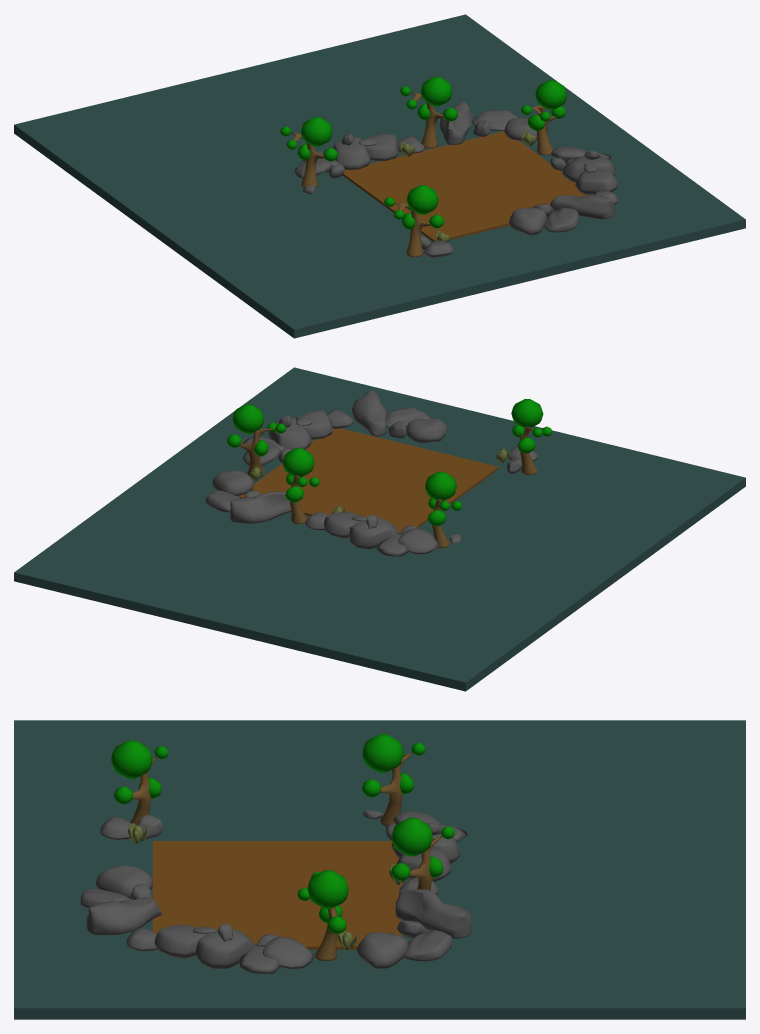
The model's file is PlayingField.fbx.
3 views of the same model, one above another, from view 1: azimuth 30°, elevation 25°; view 2: azimuth 150°, elevation 25°; view 3: azimuth 270°, elevation 25° (orthographic). The views are drawn at different scales.
Visible parts, largest first — view 1: playEnvironmentCPFrame; view 2: playEnvironmentCPFrame; view 3: playEnvironmentCPFrame.
Boxes of the visible parts, x1,y1,x2,y2 form: playEnvironmentCPFrame: [14, 14, 745, 338]; playEnvironmentCPFrame: [14, 367, 745, 691]; playEnvironmentCPFrame: [14, 720, 745, 1019].
Bounding box in the file's own units: 3809 × 618 × 4092.
